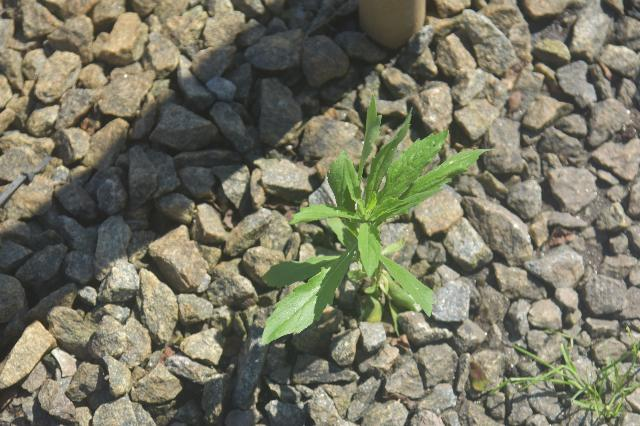MalezaMontesDelPlata: (254, 90, 497, 364), (495, 322, 640, 426)
